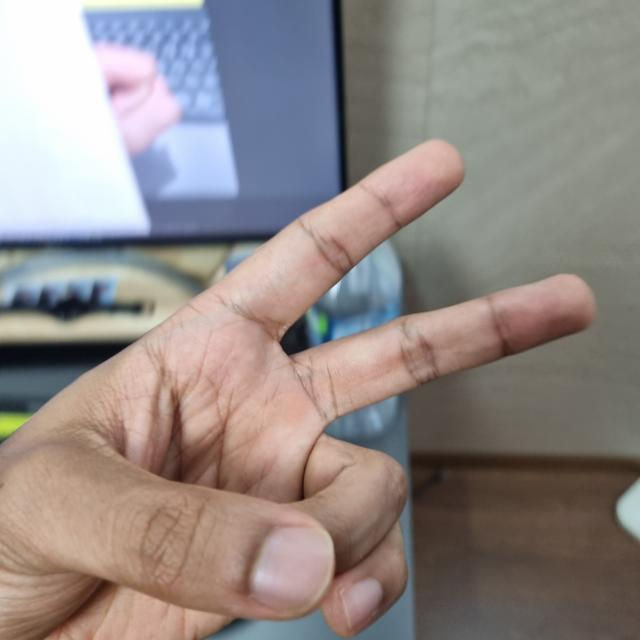Scissors: (0, 148, 589, 640)
